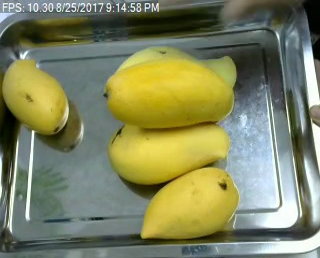Mango: (99, 56, 236, 128), (110, 118, 232, 186), (136, 165, 242, 241), (114, 47, 236, 94), (3, 55, 71, 137)
